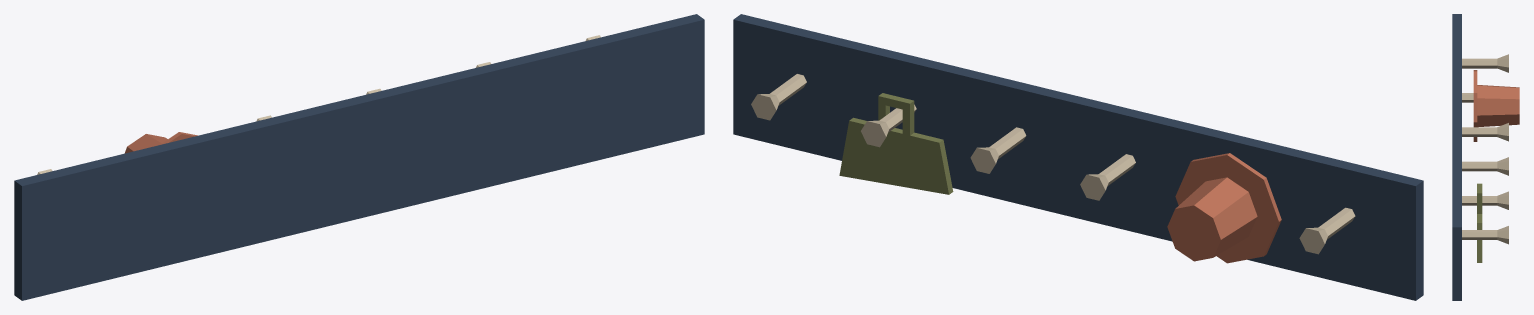
The model's file is FN_Rack_Peg.obj.
3 views of the same model, side by side, from view 1: azimuth 30°, elevation 25°; view 2: azimuth 150°, elevation 25°; view 3: azimuth 270°, elevation 25° (orthographic). The views are drawn at different scales.
Visible parts, largest first — view 1: FN_Rack_Peg; view 2: FN_Rack_Peg; view 3: FN_Rack_Peg.
Boxes of the visible parts, bbox=[...] form: FN_Rack_Peg: bbox=[14, 14, 704, 300]; FN_Rack_Peg: bbox=[733, 14, 1423, 300]; FN_Rack_Peg: bbox=[1452, 14, 1519, 300].
Bounding box in the file's own units: 1.12 × 0.18 × 0.15.
1 material, 1 textured.
